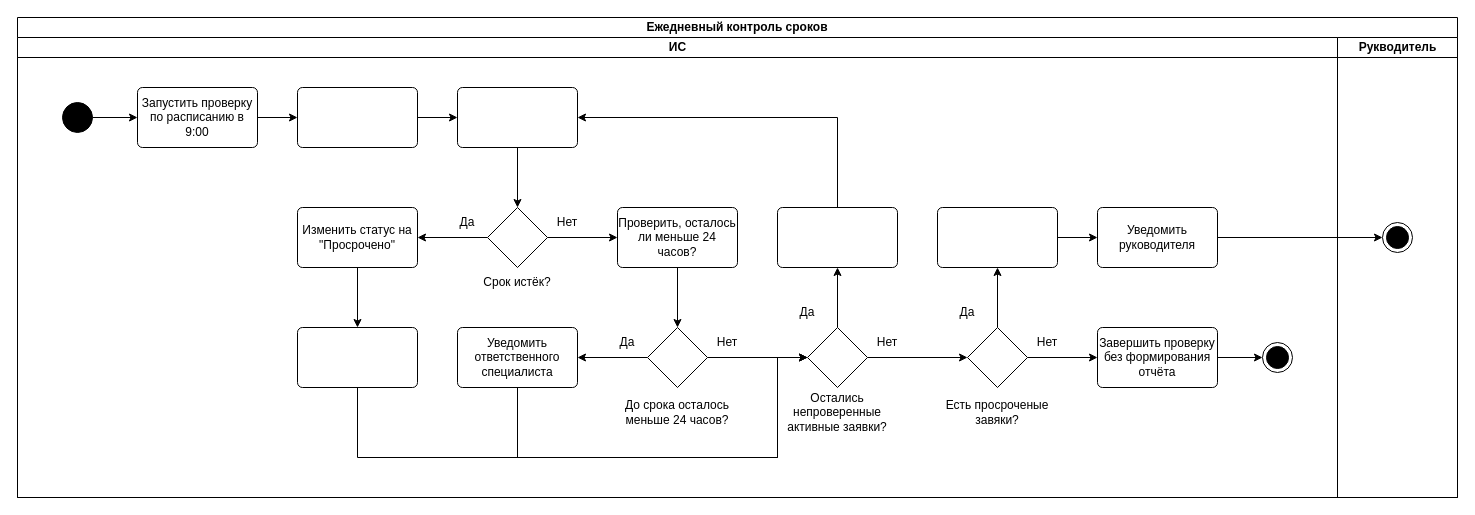
The diagram is 1475 pixels wide and 515 high, and some of its shapes have lost their labels. The shapes that lost their labels are listed below. From the top down, each one's centre as x and y in pixels, then its label:
At [357,117]: "Получить активные заявки из БД".
At [517,117]: "Проверить срок текущей заявки".
At [837,237]: "Перейти к следующей заявке".
At [997,237]: "Сформировать отчёт о просчроенных заявках".
At [357,357]: "Сохранить изменения в БД".
